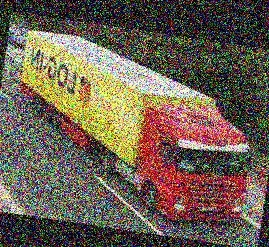truck: (3, 29, 268, 231)
